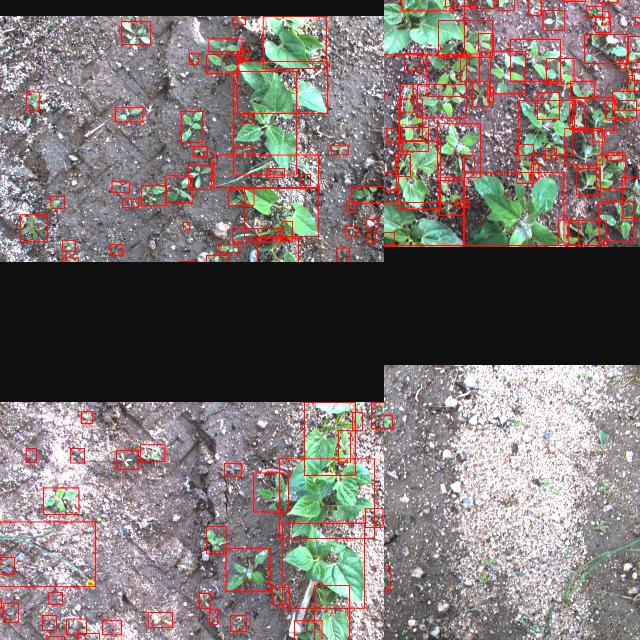crop: (280, 458, 374, 538), (282, 522, 364, 608), (234, 70, 296, 174), (238, 60, 328, 112), (384, 0, 464, 54), (304, 402, 356, 474), (244, 188, 318, 236), (384, 202, 463, 245), (264, 16, 326, 68), (398, 141, 440, 209), (314, 585, 349, 640), (257, 237, 298, 262)
weed: (464, 172, 564, 245), (0, 521, 94, 586), (214, 154, 318, 186), (519, 100, 573, 154), (438, 123, 480, 177), (510, 38, 560, 80), (438, 19, 492, 56), (226, 548, 270, 590), (427, 54, 467, 96), (418, 84, 467, 118), (490, 51, 526, 93), (598, 201, 634, 241), (564, 128, 602, 164), (254, 472, 288, 512), (575, 98, 615, 130), (584, 34, 628, 62), (596, 154, 626, 188), (43, 487, 79, 513), (400, 98, 422, 140), (569, 220, 607, 244), (438, 180, 464, 214), (622, 177, 640, 219), (165, 175, 192, 202), (20, 214, 48, 240), (546, 57, 574, 83), (516, 144, 534, 183), (232, 228, 280, 242), (576, 168, 600, 195), (122, 21, 150, 44), (182, 110, 202, 142), (207, 53, 239, 73), (188, 164, 212, 190), (402, 127, 428, 151), (537, 92, 559, 120), (460, 53, 480, 81), (294, 620, 322, 640), (350, 186, 384, 202), (606, 100, 636, 118), (558, 220, 578, 246), (206, 526, 226, 552), (613, 90, 640, 109), (142, 185, 166, 205), (472, 80, 490, 106), (208, 38, 242, 51), (140, 444, 166, 461), (543, 9, 565, 29), (116, 449, 138, 469), (571, 80, 595, 98), (228, 188, 254, 204), (115, 107, 143, 121), (570, 102, 584, 130), (401, 84, 414, 112), (338, 430, 350, 460), (148, 612, 172, 626), (272, 586, 290, 604), (365, 508, 383, 526), (478, 32, 494, 52), (66, 618, 86, 634), (628, 36, 640, 62), (372, 402, 384, 428), (396, 154, 410, 176), (404, 52, 420, 70), (26, 90, 40, 110), (4, 602, 18, 622), (102, 620, 121, 634), (230, 615, 246, 631), (224, 462, 242, 476), (384, 171, 397, 190), (0, 556, 14, 573), (596, 16, 610, 32), (42, 614, 56, 630), (282, 221, 292, 241), (469, 0, 494, 8), (353, 410, 363, 430), (70, 448, 84, 462), (336, 247, 349, 262), (528, 0, 541, 15), (386, 128, 399, 142), (112, 182, 130, 192), (464, 154, 474, 172), (206, 254, 228, 262), (62, 240, 76, 252), (51, 196, 65, 208), (49, 592, 63, 604), (332, 144, 348, 154), (219, 244, 239, 252), (122, 198, 138, 208), (498, 0, 514, 10), (586, 6, 602, 16), (200, 592, 210, 608), (384, 232, 395, 246), (78, 633, 100, 640), (384, 565, 390, 590), (234, 146, 252, 154), (267, 168, 285, 176), (592, 129, 604, 141), (80, 410, 92, 422), (193, 146, 207, 156), (26, 448, 36, 462), (531, 163, 539, 179), (626, 74, 634, 90), (210, 608, 218, 624), (384, 414, 393, 428), (346, 225, 358, 235), (110, 244, 122, 254), (367, 218, 379, 228), (608, 152, 622, 160), (602, 10, 610, 24), (300, 173, 310, 184), (232, 16, 245, 24), (243, 113, 253, 123), (546, 148, 556, 158), (631, 68, 640, 79), (190, 52, 198, 64), (240, 47, 248, 59), (488, 86, 494, 102), (457, 199, 469, 207), (46, 635, 64, 640), (63, 257, 79, 262), (346, 201, 354, 211), (368, 233, 376, 243), (620, 59, 626, 69), (183, 222, 189, 230), (237, 50, 243, 58), (635, 16, 640, 24)
